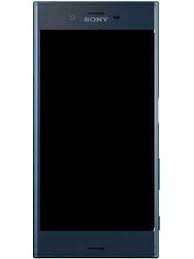sony: (29, 1, 163, 259)
